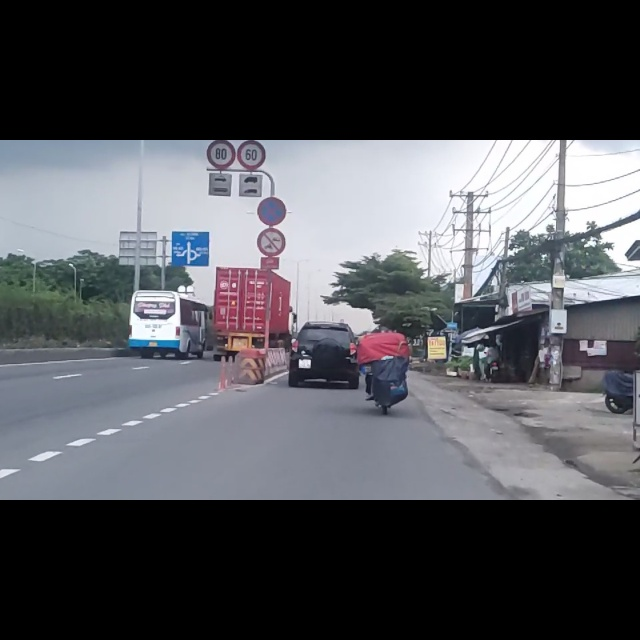bien_cam: (256, 100, 287, 152), (256, 155, 287, 206), (206, 1, 236, 52), (237, 2, 267, 52)
